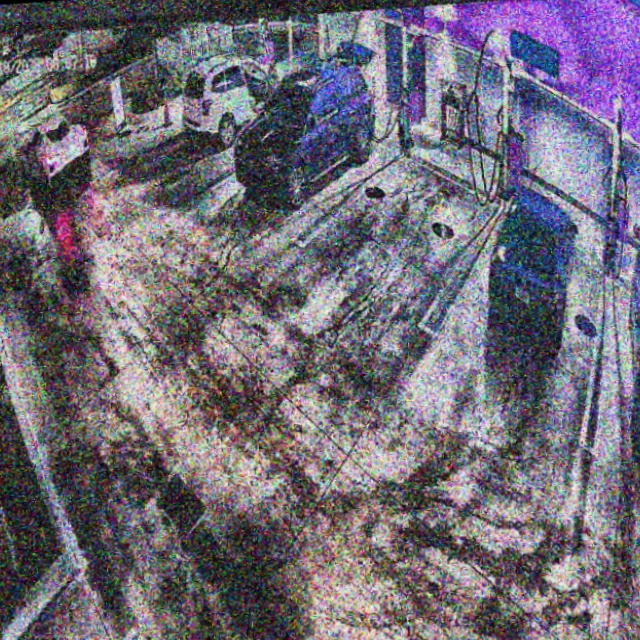Car: (223, 42, 388, 219), (475, 179, 588, 356)
